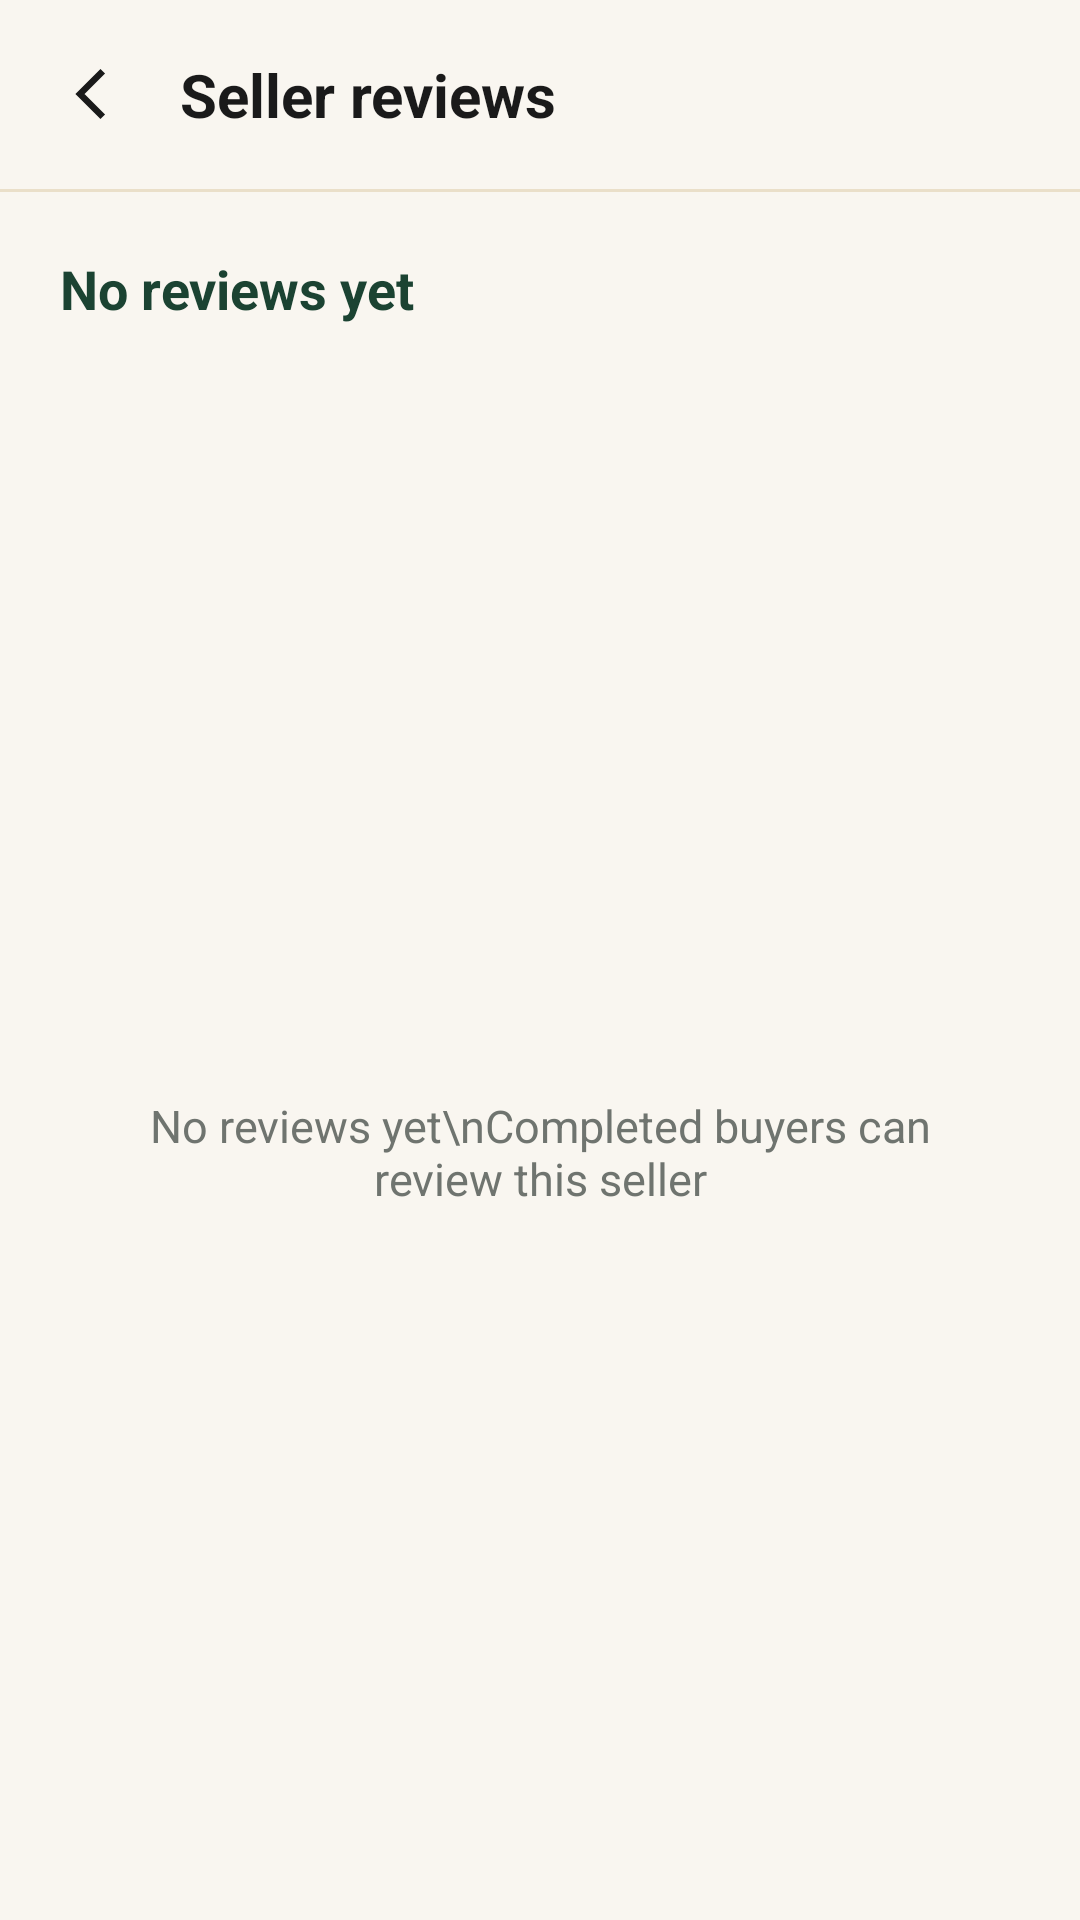

Locate icon controls on the screen. Image size 1080 × 1920, boxes as {"x1": x1, "y1": y1, "x2": x2, "y2": y2}.
Back: {"x1": 75, "y1": 69, "x2": 105, "y2": 119}
